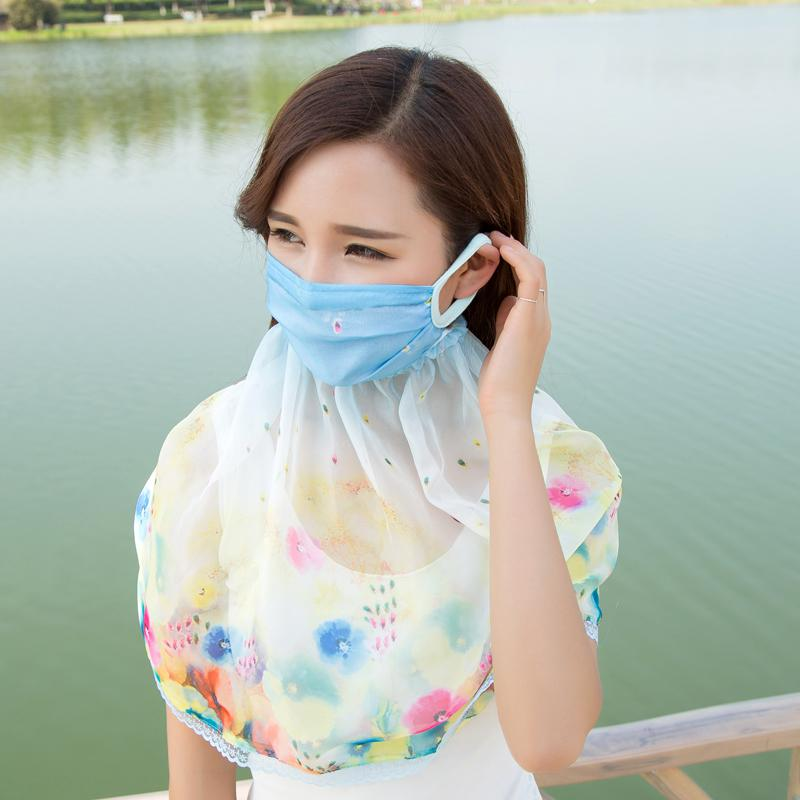OK: (261, 190, 456, 385)
